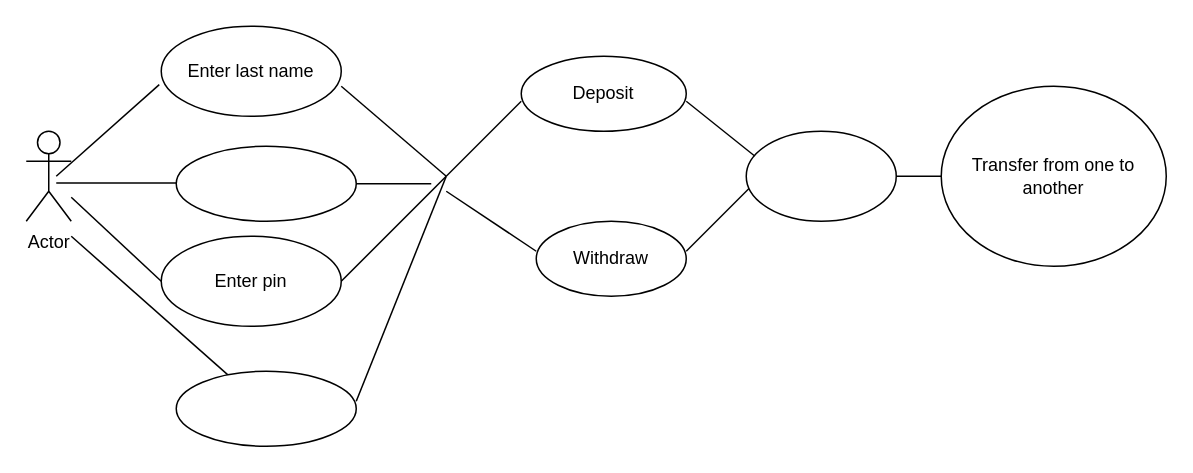
The diagram is 1193 pixels wide and 473 high, and some of its shapes have lost their labels. Here are the shapes that lost their labels. From the top down, the centre of each, then its label:
point 265,183: Enter name
point 820,175: Check balance
point 265,408: Change pin
